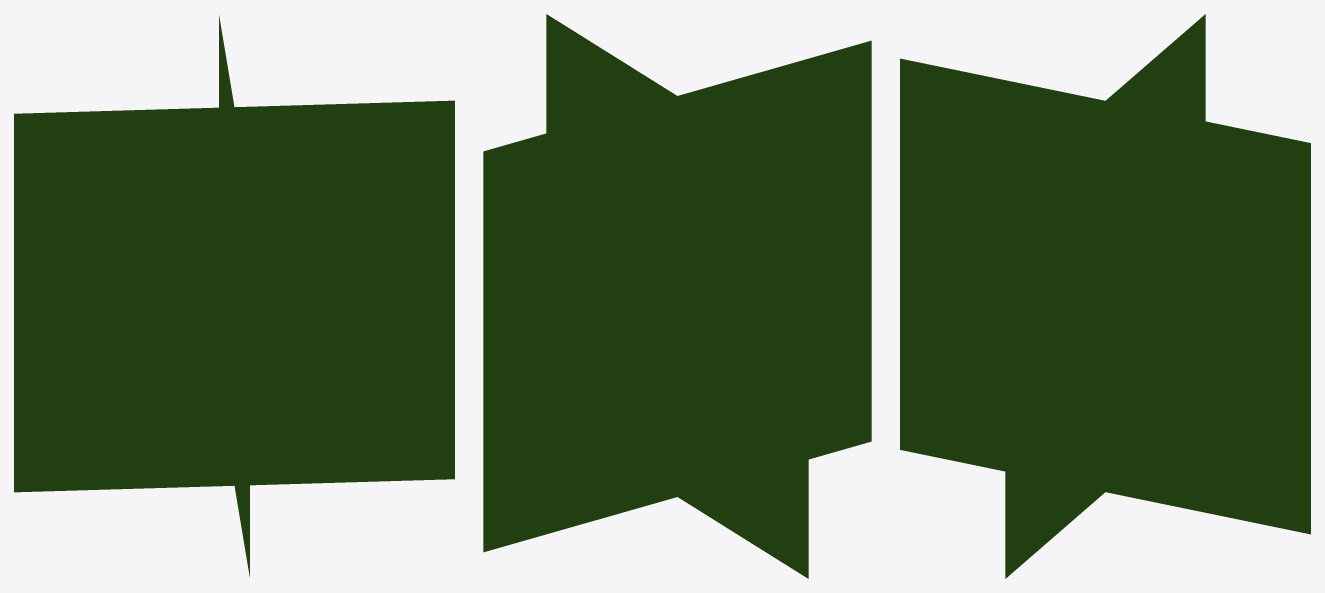
The model's file is S_Thick-Grass_01.fbx.
3 renders of one model, left to right at view 1: azimuth 30°, elevation 25°; view 2: azimuth 150°, elevation 25°; view 3: azimuth 270°, elevation 25°, orthographic. The views are drawn at different scales.
Parts seen in each view (by area): view 1: Plane043; view 2: Plane043; view 3: Plane043.
Part boxes in pixels (x1,y1,x2,y2): Plane043: (14,15,454,577); Plane043: (483,14,871,578); Plane043: (900,14,1310,578).
Size of the model in its own units: 56.75 by 59.65 by 56.75.
